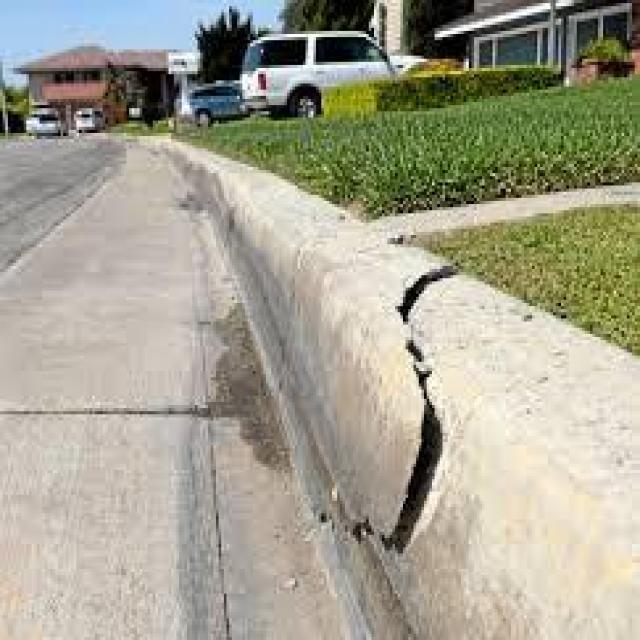bump: (255, 182, 640, 624)
